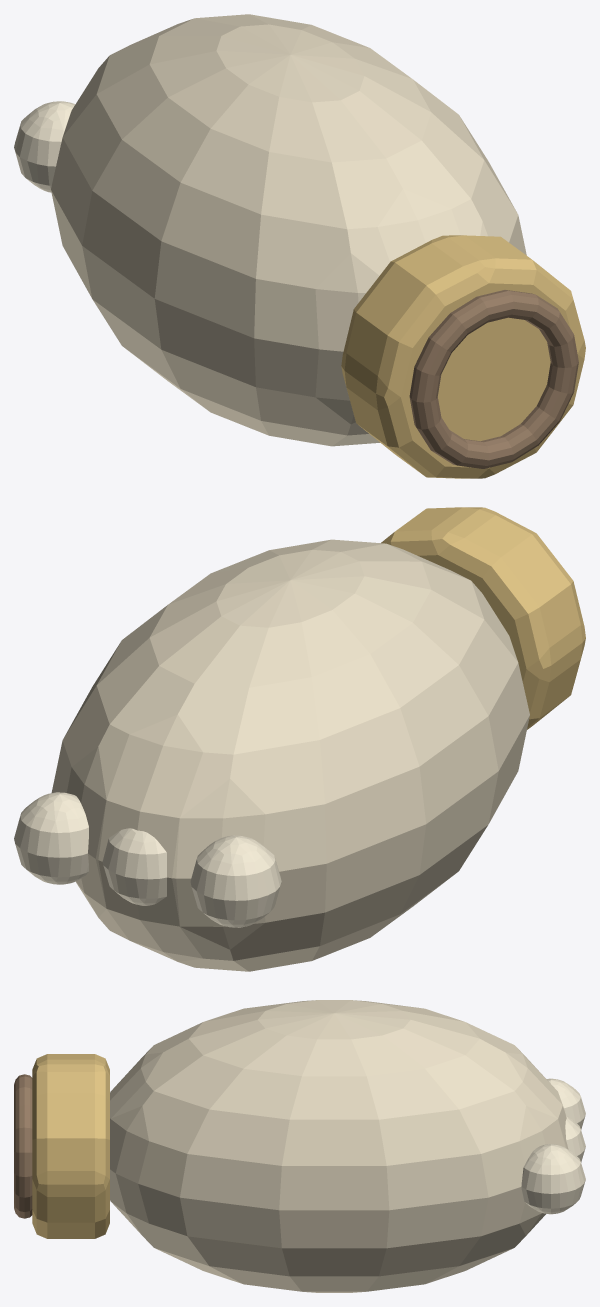
File: whickerhares_foot.glb
The picture shows the model from 3 angles, top to bottom: view 1: azimuth 30°, elevation 25°; view 2: azimuth 150°, elevation 25°; view 3: azimuth 270°, elevation 25°; orthographic projection. The views are drawn at different scales.
Visible parts, largest first — view 1: Foot, Cap, Cord, Pad0; view 2: Foot, Cap, Pad0, Pad2, Pad1; view 3: Foot, Cap, Pad2, Cord, Pad0, Pad1.
Boxes of the visible parts, bbox=[...] form: Foot: bbox=[51, 14, 526, 446]; Cap: bbox=[341, 235, 585, 478]; Cord: bbox=[409, 290, 578, 468]; Pad0: bbox=[14, 101, 75, 192]; Foot: bbox=[51, 539, 529, 971]; Cap: bbox=[381, 507, 585, 729]; Pad0: bbox=[190, 835, 281, 927]; Pad2: bbox=[14, 792, 88, 884]; Pad1: bbox=[102, 828, 166, 905]; Foot: bbox=[110, 1000, 568, 1292]; Cap: bbox=[32, 1054, 109, 1238]; Pad2: bbox=[521, 1144, 585, 1214]; Cord: bbox=[14, 1074, 32, 1218]; Pad0: bbox=[546, 1078, 585, 1129]; Pad1: bbox=[565, 1115, 585, 1162].
Bounding box in the file's own units: 0.0975 × 0.095 × 0.1848.
